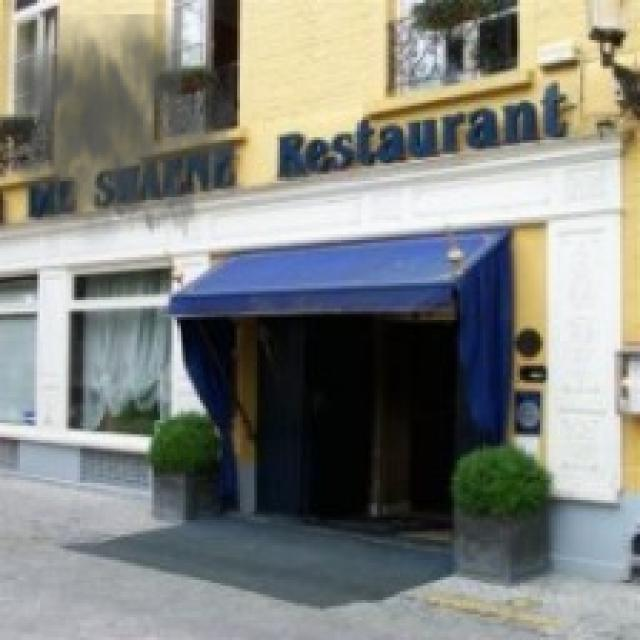smoke: (0, 14, 235, 263)
